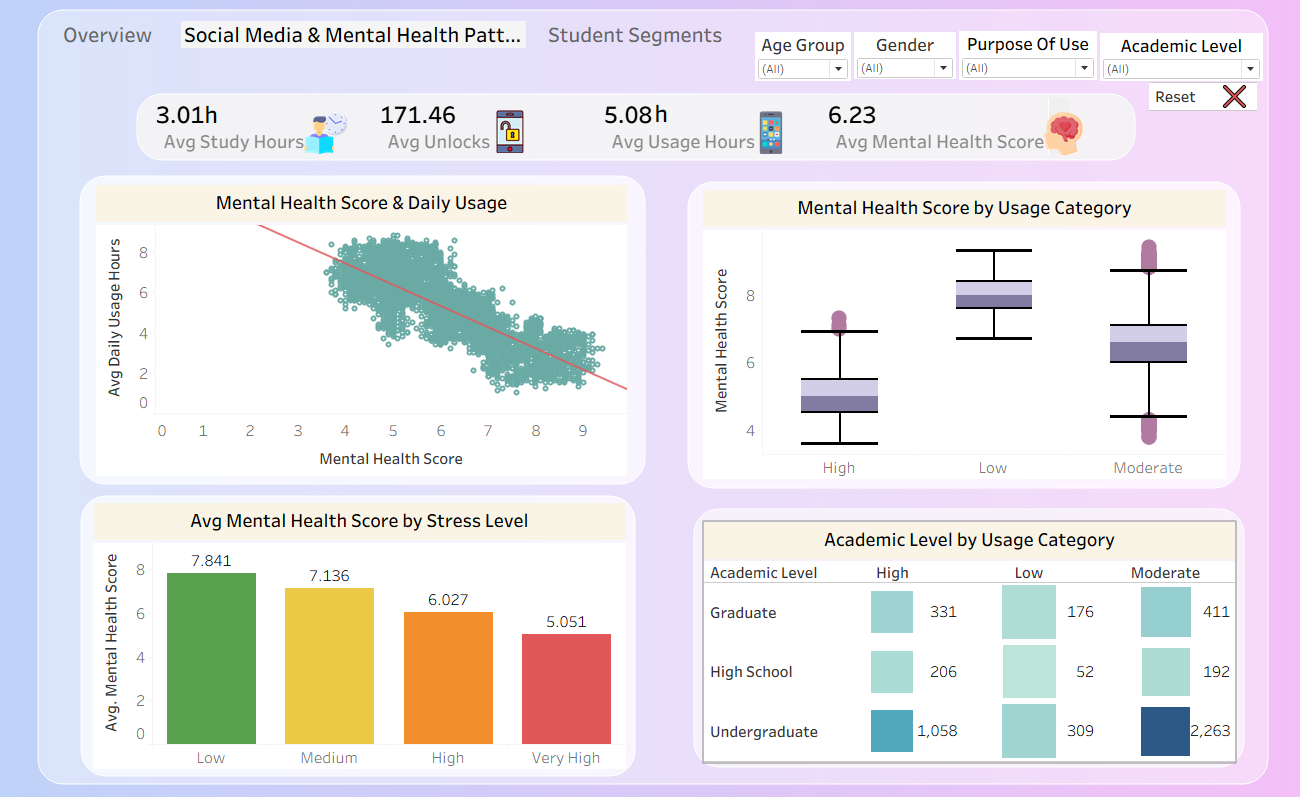

The page's visual inventory and layout, read from the dashboard file:
{"tool":"tableau","page":{"name":"Social Media","canvas":[1300,800],"ordinal":2},"visuals":[{"type":"image","param":"C:/Users/user/Videos/Project/Student Social Media & Mental Health/Blue - Pink Ba","box":[0,0,1300,800]},{"type":"worksheet","title":"Bp-Back","mark":"Automatic","box":[0,1,1300,800]},{"type":"dashboard-object","box":[39,18,138,35]},{"type":"dashboard-object","box":[177,18,353,35]},{"type":"dashboard-object","box":[530,18,210,35]},{"type":"filter","title":"Usage-Score","param":"[federated.1290blm1tqtw5o11xgozc0wntkdx].[none:Purpose_Of_Use:nk]","box":[959,32,138,49]},{"type":"filter","title":"Usage-Score","param":"[federated.1290blm1tqtw5o11xgozc0wntkdx].[none:Calculation_3693028464959494:nk]","box":[755,33,96,49]},{"type":"filter","title":"Usage-Score","param":"[federated.1290blm1tqtw5o11xgozc0wntkdx].[none:Gender:nk]","box":[854,33,102,47]},{"type":"filter","title":"Usage-Score","param":"[federated.1290blm1tqtw5o11xgozc0wntkdx].[none:Academic_Level:nk]","box":[1100,34,163,48]},{"type":"worksheet","title":"Reset","mark":"Shape","rows":["Calculation_1901102881722391"],"box":[1149,83,110,36]},{"type":"worksheet","title":"KPI Metrics 2","mark":"Automatic","box":[152,99,961,56]},{"type":"text","box":[651,99,21,29]},{"type":"text","box":[201,102,21,25]},{"type":"image","param":"C:/Users/user/Downloads/security_10910937.png","box":[488,111,55,43]},{"type":"image","param":"C:/Users/user/Downloads/clock_2027492.png","box":[304,112,55,43]},{"type":"image","param":"C:/Users/user/Downloads/smartphone_186239.png","box":[749,112,51,43]},{"type":"image","param":"C:/Users/user/Downloads/mental-health.png","box":[1041,113,55,43]},{"type":"worksheet","title":"Usage-Score","mark":"Automatic","rows":["Avg_Daily_Usage_Hours"],"cols":["Mental_Health_Score"],"box":[96,186,531,291]},{"type":"worksheet","title":"Score by Usage Category","mark":"Circle","rows":["Mental_Health_Score"],"cols":["Calculation_3693028466761735"],"box":[703,191,523,289]},{"type":"worksheet","title":"Score by Stress","mark":"Automatic","rows":["Mental_Health_Score"],"cols":["Stress_Level"],"box":[93,504,533,266]},{"type":"worksheet","title":"Academic by Usage Cat","mark":"Automatic","rows":["Academic_Level"],"cols":["Calculation_3693028466761735"],"box":[704,523,531,240]}]}

Visuals, with their boxes in screenshot pixels (x1, y1, x2, y2), scaled from the page's 1300x800 canvas onto the 1300x797 screenshot:
image: BBox(0, 0, 1299, 796)
"Bp-Back" worksheet: BBox(0, 1, 1299, 796)
dashboard-object: BBox(39, 18, 177, 53)
dashboard-object: BBox(177, 18, 530, 53)
dashboard-object: BBox(530, 18, 740, 53)
"Usage-Score" filter: BBox(959, 32, 1097, 81)
"Usage-Score" filter: BBox(755, 33, 851, 82)
"Usage-Score" filter: BBox(854, 33, 956, 80)
"Usage-Score" filter: BBox(1100, 34, 1263, 82)
"Reset" worksheet (Shape marks): BBox(1149, 83, 1259, 119)
"KPI Metrics 2" worksheet: BBox(152, 99, 1113, 154)
text: BBox(651, 99, 672, 128)
text: BBox(201, 102, 222, 127)
image: BBox(488, 111, 543, 153)
image: BBox(304, 112, 359, 154)
image: BBox(749, 112, 800, 154)
image: BBox(1041, 113, 1096, 155)
"Usage-Score" worksheet: BBox(96, 185, 627, 475)
"Score by Usage Category" worksheet (Circle marks): BBox(703, 190, 1226, 478)
"Score by Stress" worksheet: BBox(93, 502, 626, 767)
"Academic by Usage Cat" worksheet: BBox(704, 521, 1235, 760)
